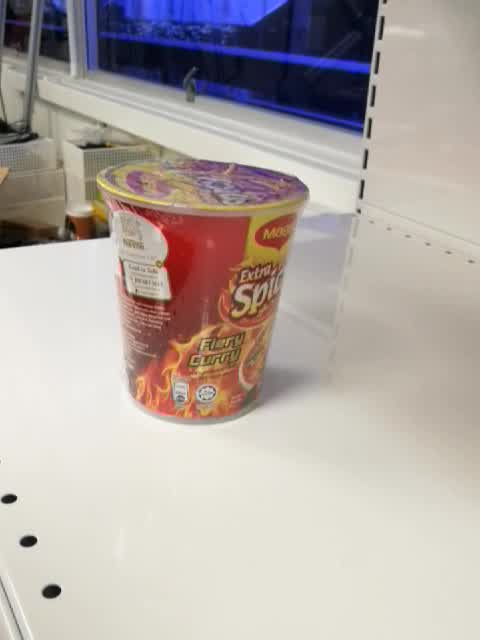maggi: (95, 157, 312, 426)
